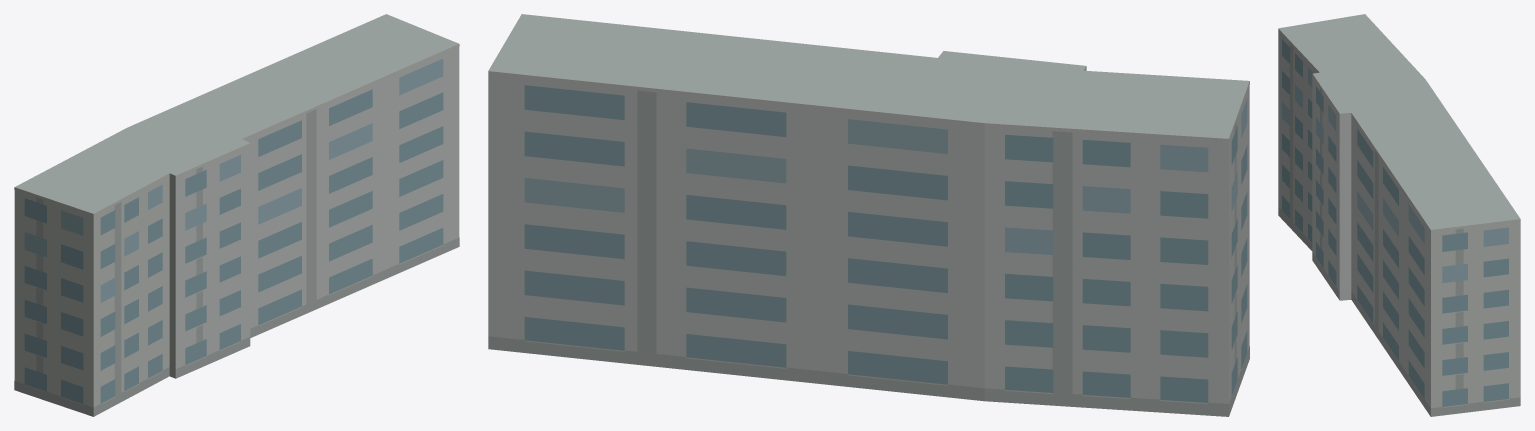
The model's file is survey-upis-33041225.glb.
The picture shows the model from 3 angles, left to right: view 1: azimuth 30°, elevation 25°; view 2: azimuth 150°, elevation 25°; view 3: azimuth 270°, elevation 25°; orthographic projection. The views are drawn at different scales.
Parts seen in each view (by area): view 1: survey-upis-33041225.tmp; view 2: survey-upis-33041225.tmp; view 3: survey-upis-33041225.tmp.
Part boxes in pixels (x1=…): survey-upis-33041225.tmp: x1=14, y1=14, x2=459, y2=416; survey-upis-33041225.tmp: x1=488, y1=14, x2=1249, y2=416; survey-upis-33041225.tmp: x1=1278, y1=14, x2=1520, y2=416.
Bounding box in the file's own units: 45.35 × 18.3 × 21.52.
